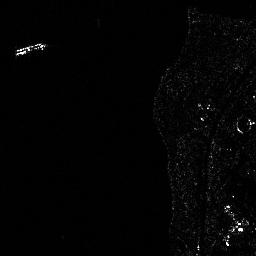ship: (15, 43, 46, 56)
